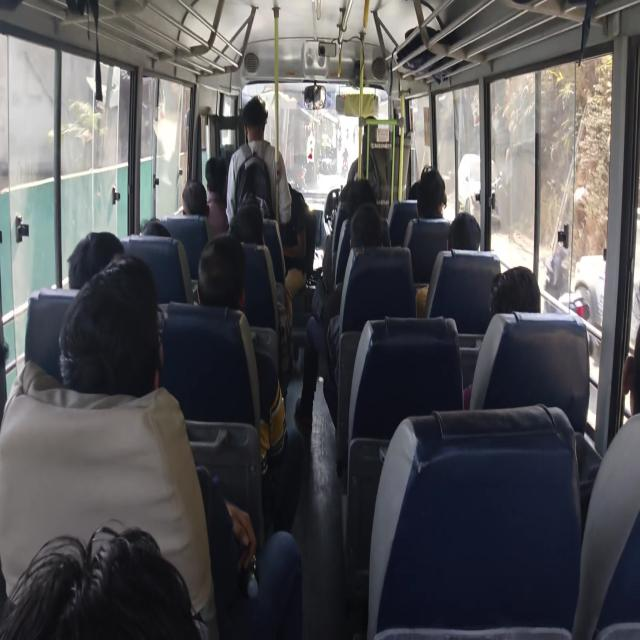person: (76, 268, 178, 412), (36, 534, 173, 640), (273, 162, 314, 310), (0, 306, 47, 411), (73, 222, 130, 280), (202, 243, 249, 302), (612, 333, 640, 424), (495, 265, 536, 327), (181, 176, 222, 228), (240, 93, 271, 152), (353, 204, 387, 249), (348, 180, 384, 218), (235, 203, 267, 244), (455, 222, 490, 257), (146, 216, 177, 251), (425, 169, 446, 215), (204, 159, 229, 188), (408, 178, 432, 206), (338, 179, 359, 206), (248, 187, 266, 209)
